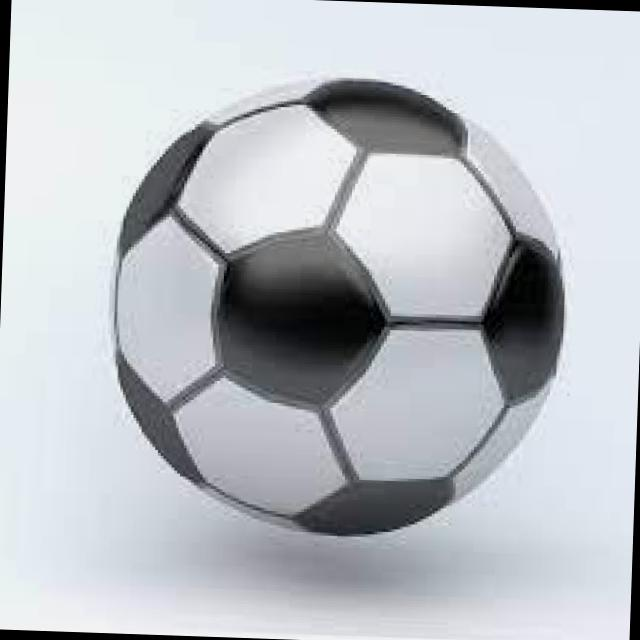Soccer Ball: (98, 70, 572, 552)
